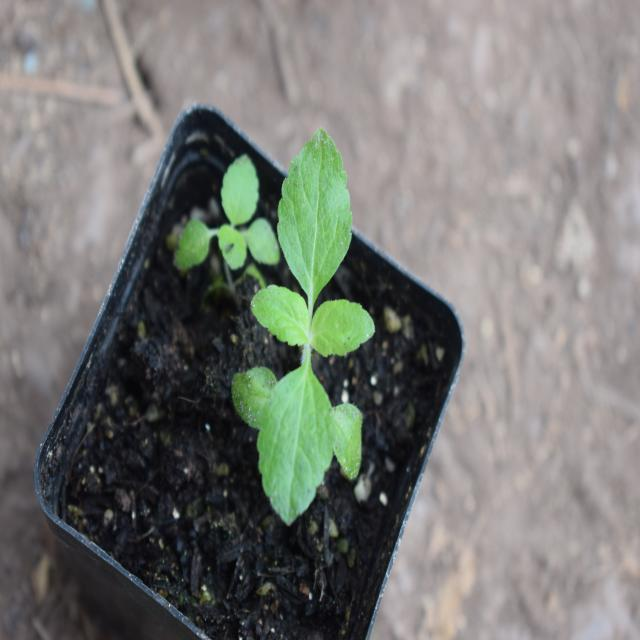billygoat_weed: (249, 120, 363, 514)
